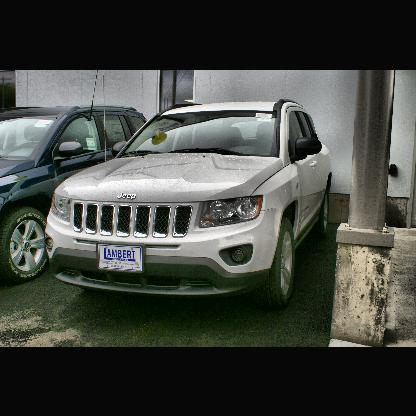Jeep Compass SUV 2012: (46, 100, 335, 303)
